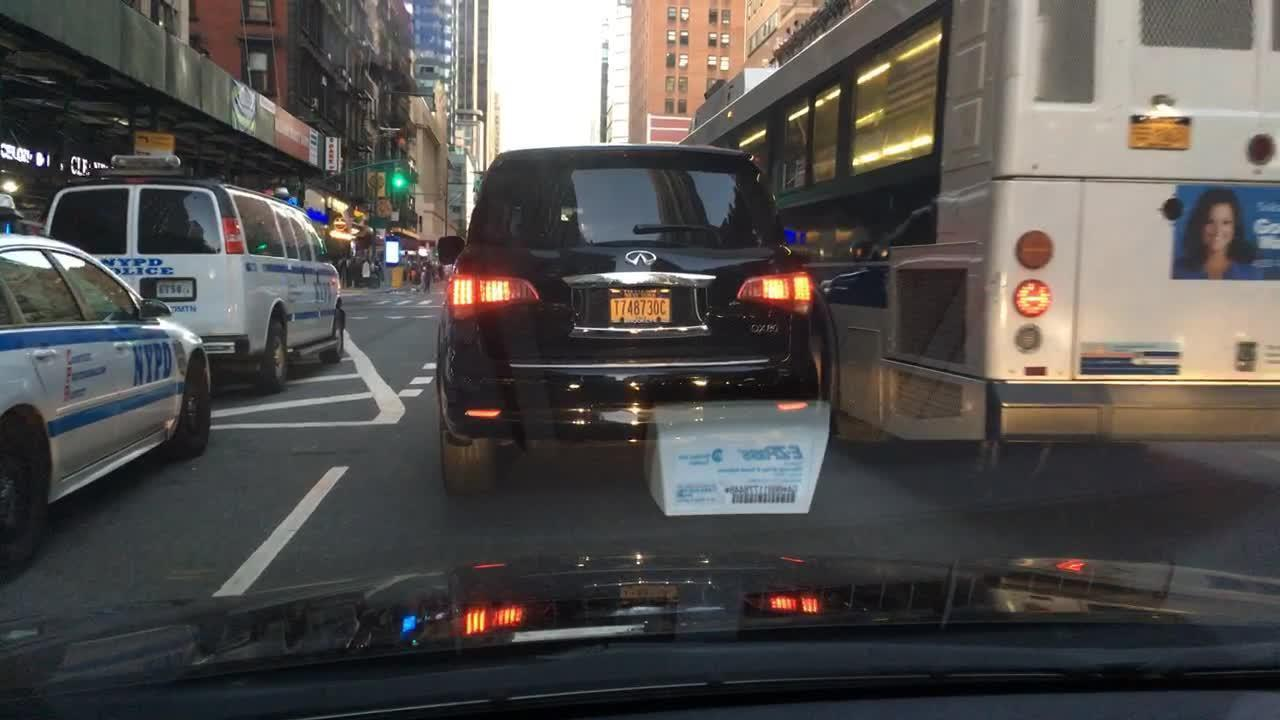Infiniti: (622, 247, 665, 271)
